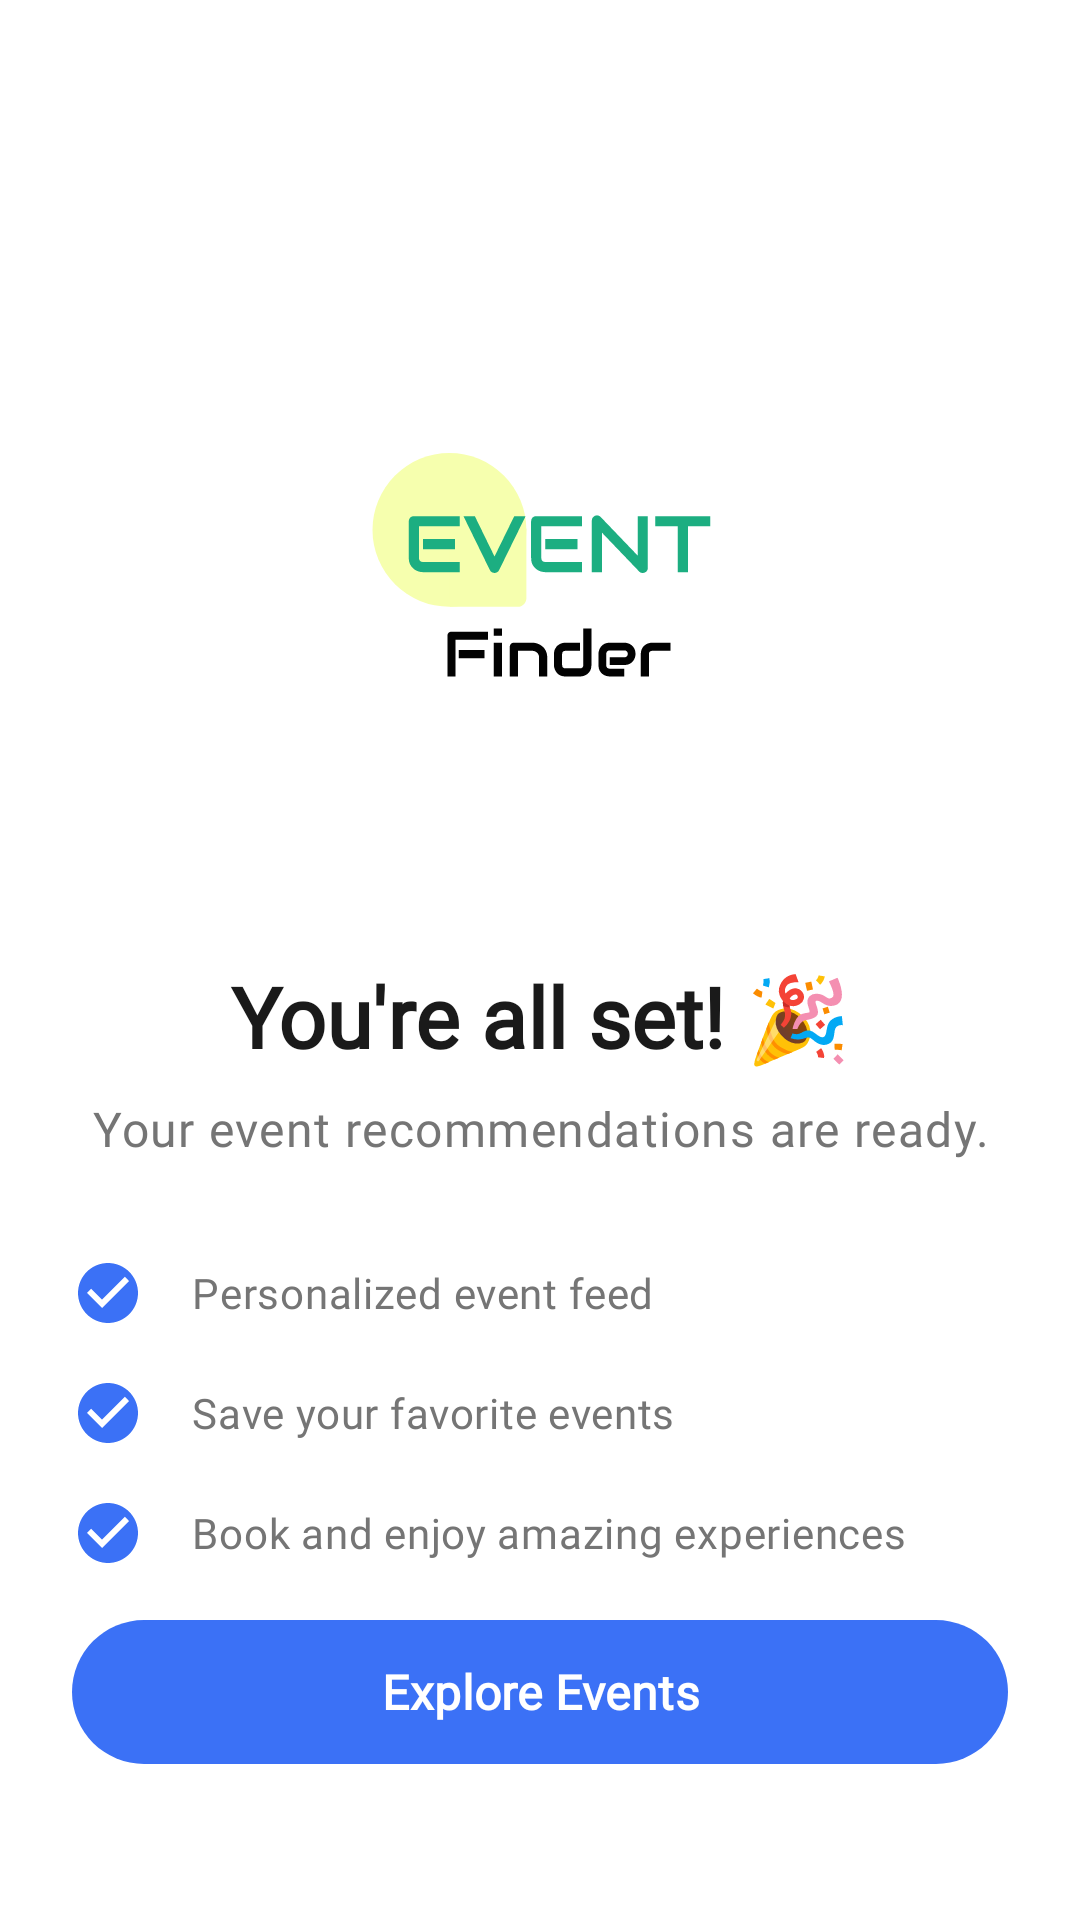

Named icons in this screenshot (1080px×1920px) and their bounding boxes, [left=x1, top=y1, right=x2, bottom=y2]:
check circle: [left=78, top=1263, right=138, bottom=1323], [left=78, top=1383, right=138, bottom=1443], [left=78, top=1503, right=138, bottom=1563]
